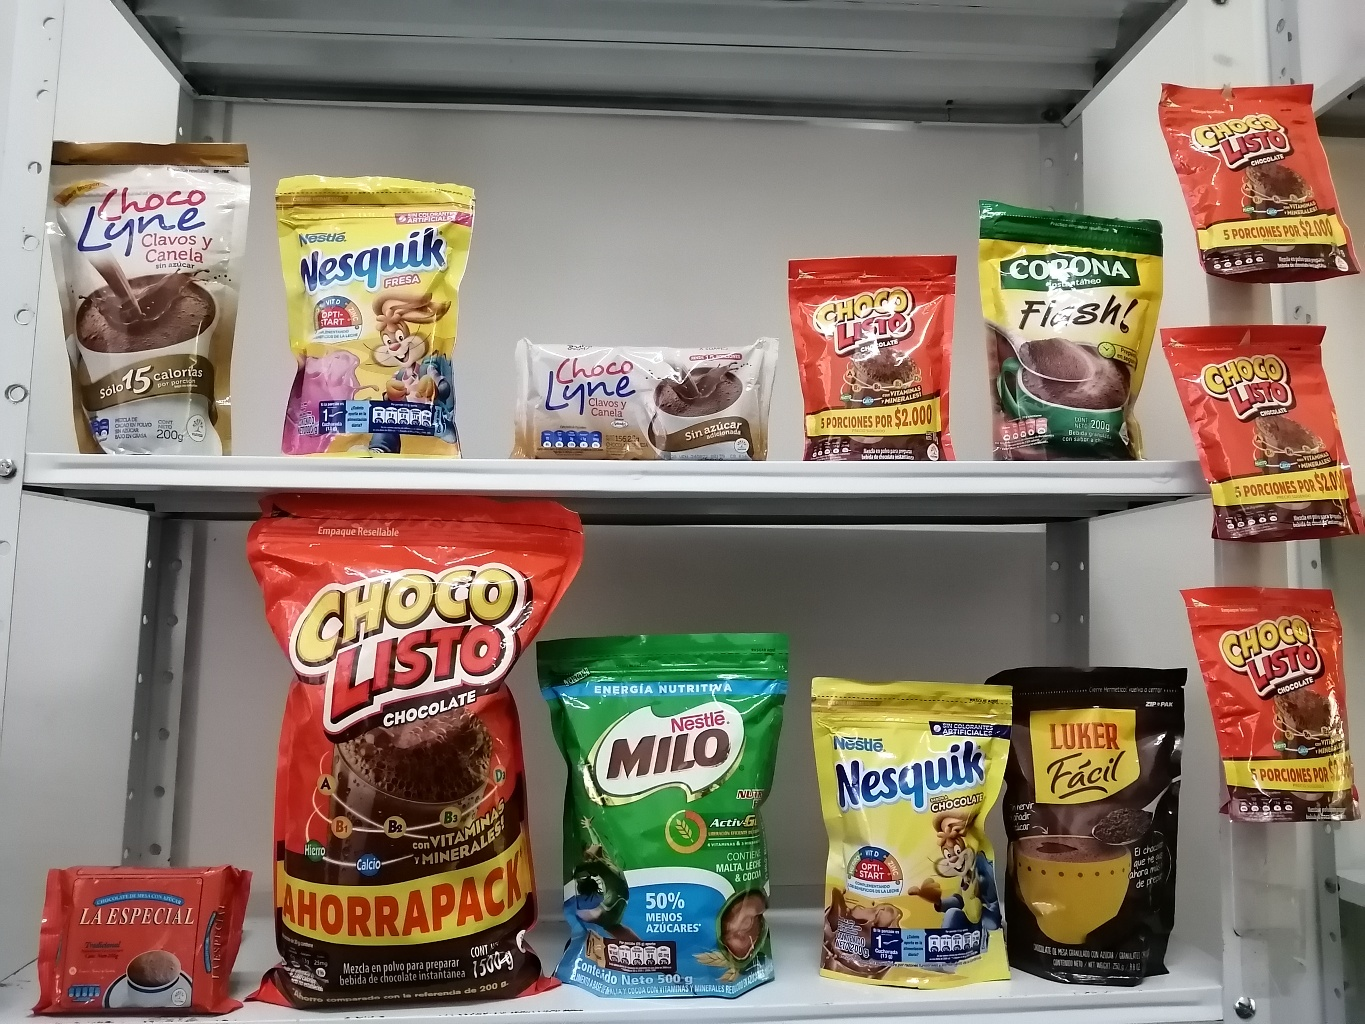COL0170103DYP1,500: (237, 482, 578, 1021)
COL0170205DYP50000: (539, 625, 792, 1009)
COL0170303DYP20000: (807, 666, 1028, 999)
COL0170305DYP20000: (270, 163, 480, 463)
